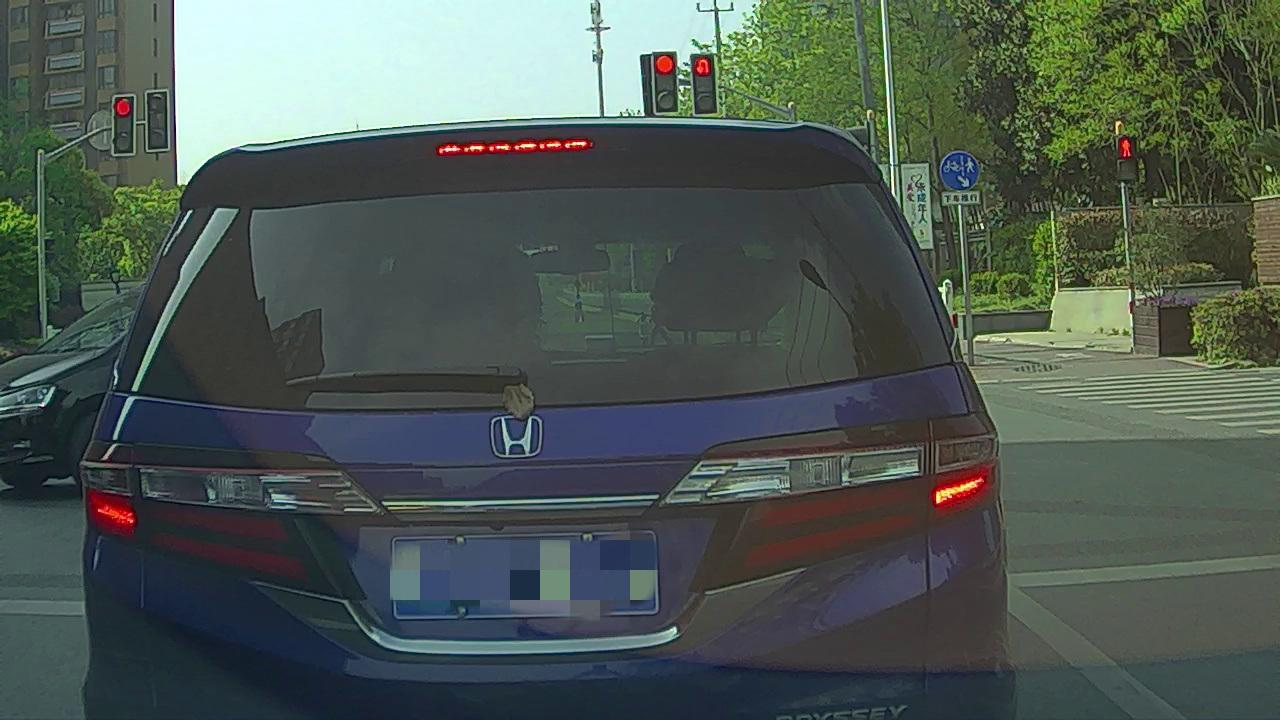traffic_light: (692, 53, 716, 115), (653, 51, 677, 112), (113, 97, 136, 156), (147, 92, 169, 150)
